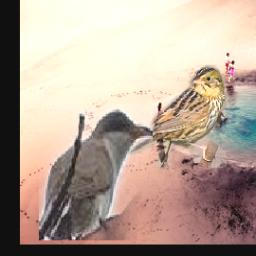Cuckoo: (39, 107, 153, 240)
Sparrow: (124, 66, 227, 169)
